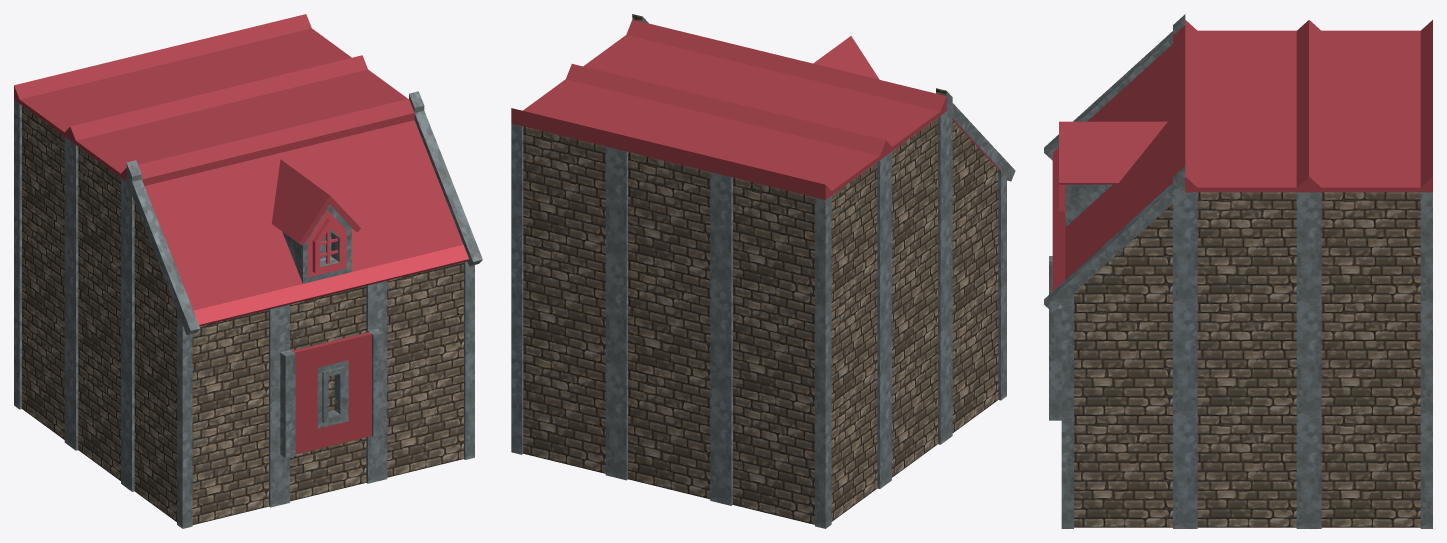
The model's file is HouseRed.obj.
3 renders of one model, left to right at view 1: azimuth 30°, elevation 25°; view 2: azimuth 150°, elevation 25°; view 3: azimuth 270°, elevation 25°, orthographic. The views are drawn at different scales.
Visible parts, largest first — view 1: mergedBlocks; view 2: mergedBlocks; view 3: mergedBlocks.
Boxes of the visible parts, x1=… form: mergedBlocks: x1=14, y1=14, x2=482, y2=528; mergedBlocks: x1=511, y1=14, x2=1015, y2=528; mergedBlocks: x1=1044, y1=14, x2=1432, y2=528.
Bounding box in the file's own units: 3 × 3.19 × 3.14.
7 materials, 2 textured.
